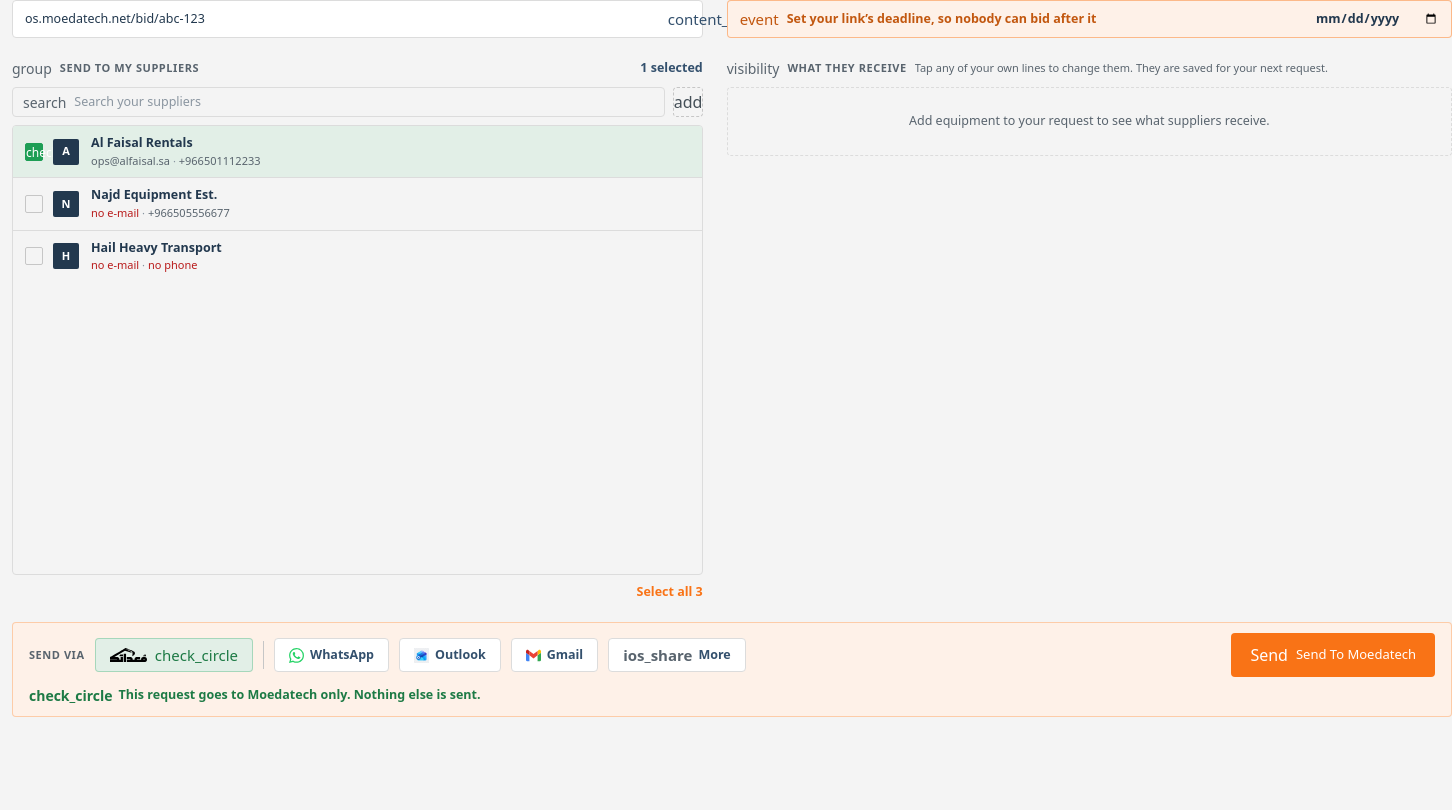
finding a supplier › Given a search, Then the list narrows and the ticks are untouched
In the field labelled "Search your suppliers": (364, 102) left=74, top=93, right=654, bottom=111, type "najd"
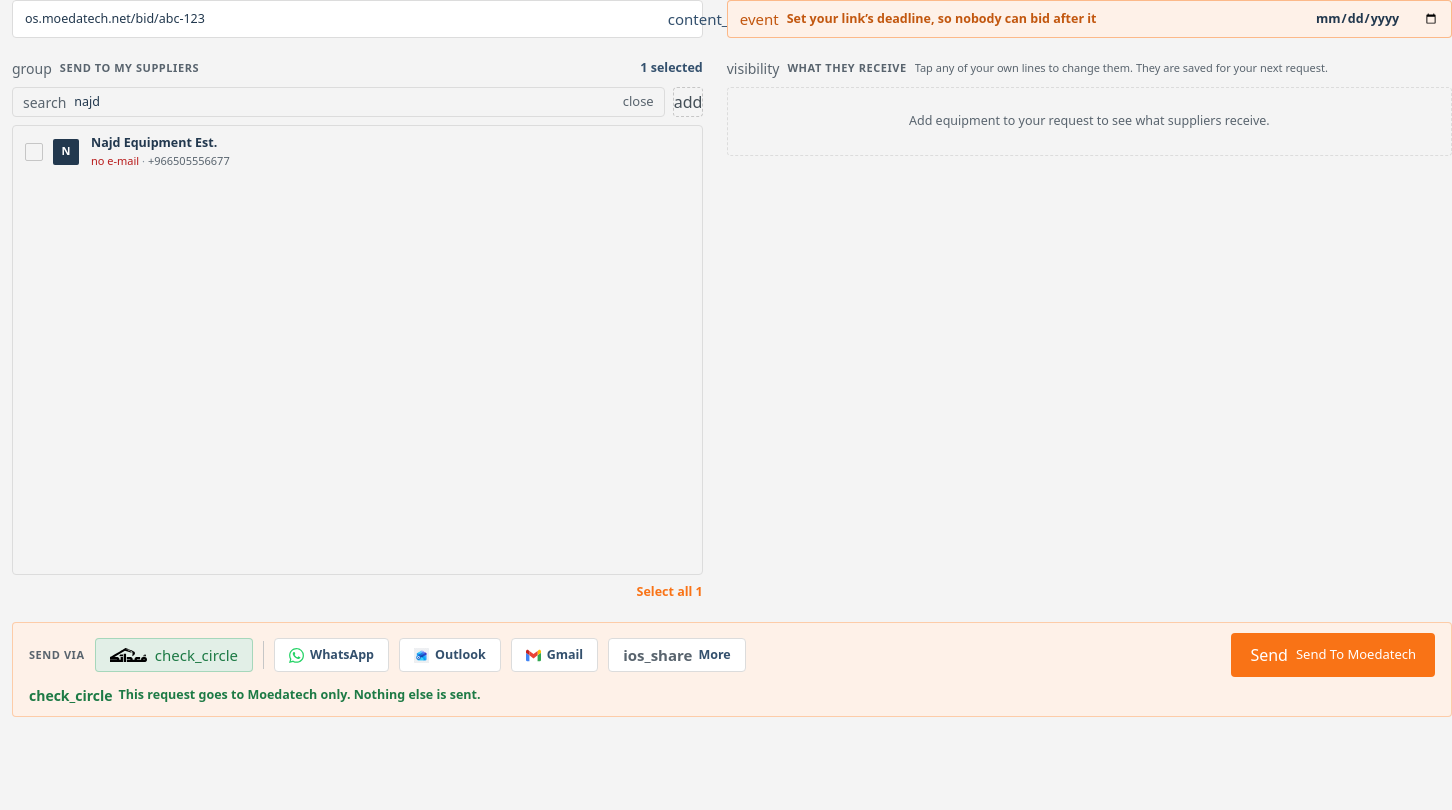
Check: the text "Najd Equipment Est." is shown, box left=91, top=134, right=217, bottom=151
Check: the text "Al Faisal Rentals" is gone
